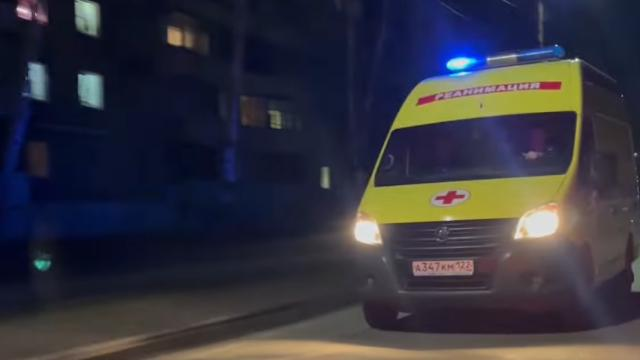intensive care unit: (350, 36, 640, 333)
